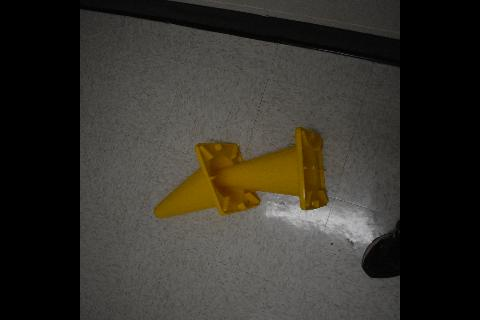cone: (212, 126, 328, 210), (153, 142, 261, 218)
